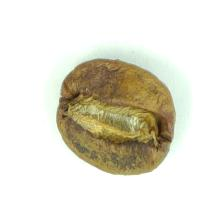NG: (67, 67, 157, 168)
